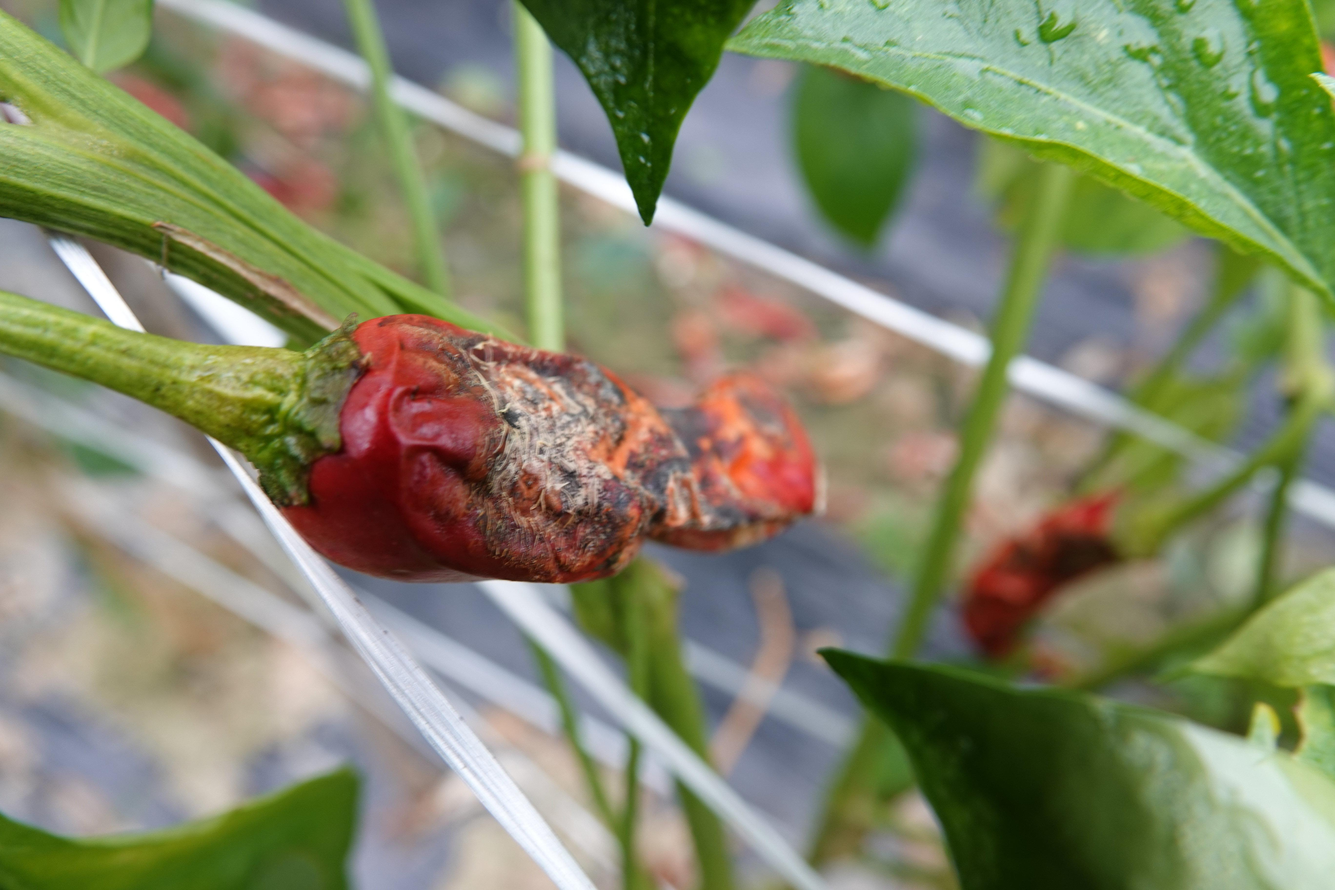Busuk Buah Antraknosa: (256, 311, 825, 596)
